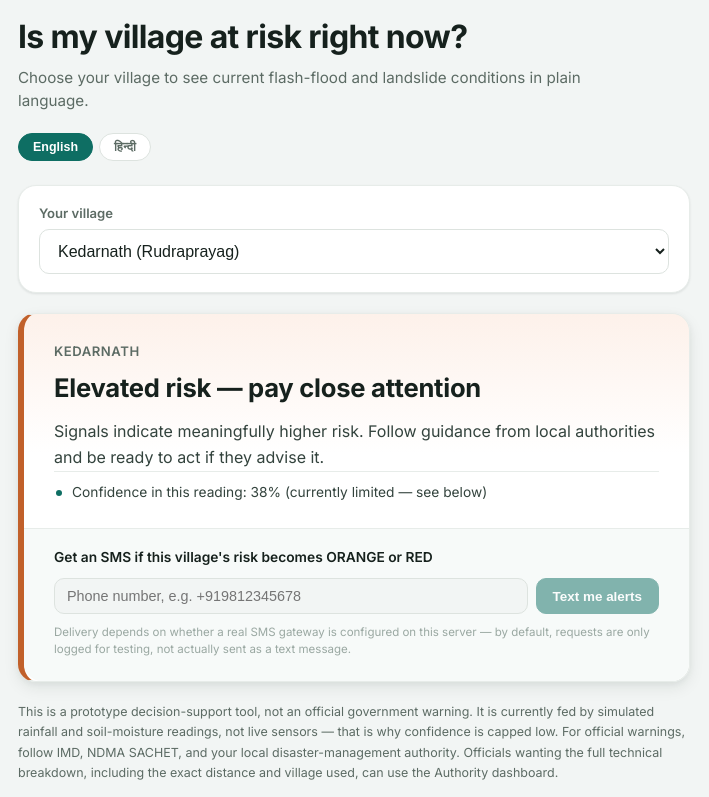
CitizenView › defaults to English and switches the visible copy to Hindi on toggle, without changing the underlying risk data
Expected: the text "Elevated risk — pay close attention" is shown, [54,372,481,403]
Click the button "हिन्दी".
click(125, 147)  # box [99,133,151,161]
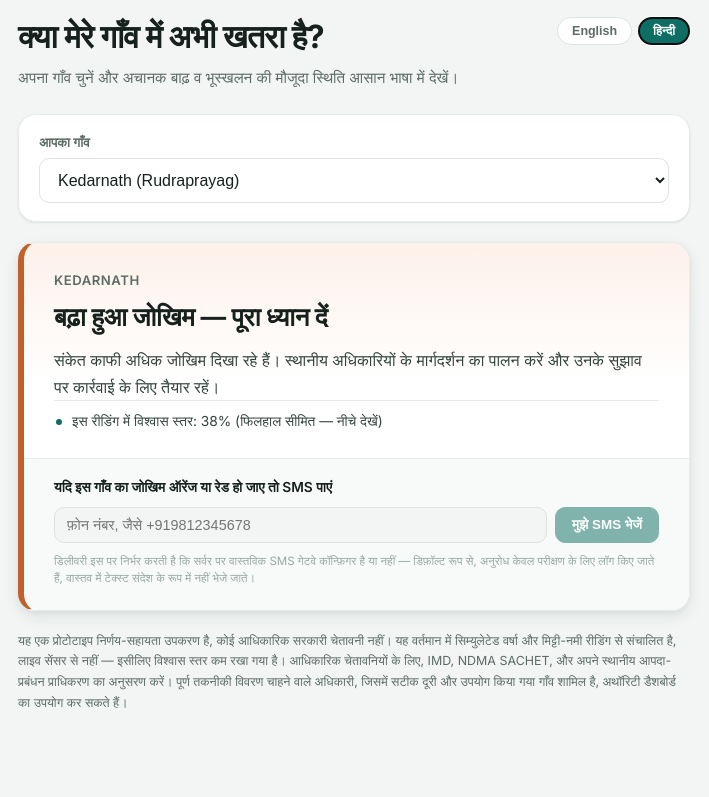
Expected: the text "Kedarnath" is shown, [54,272,140,288]
Expected: the text "बढ़ा हुआ जोखिम — पूरा ध्यान दें" is shown, [54,301,327,332]
Expected: the text "Elevated risk" is gone
Click the button "English".
click(595, 31)  # box [557,17,632,45]
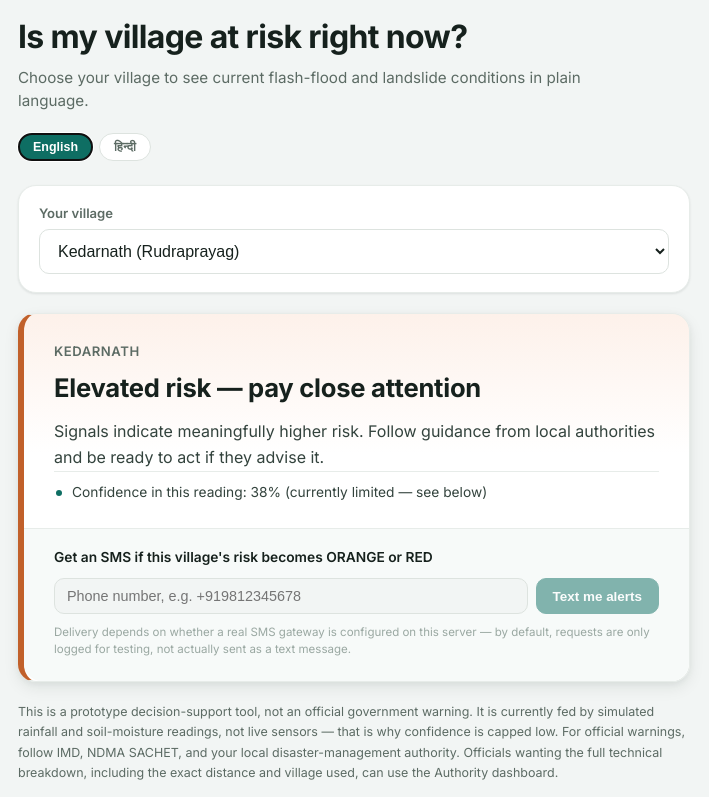
Expected: the text "Elevated risk — pay close attention" is shown, [54,372,481,403]
